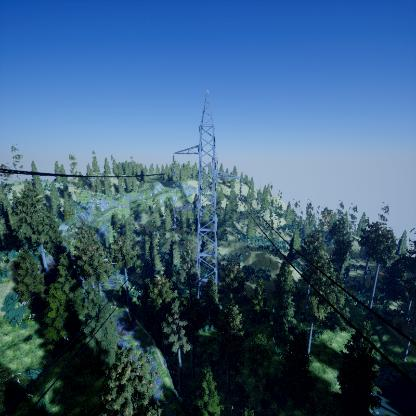tower: (167, 93, 243, 312)
